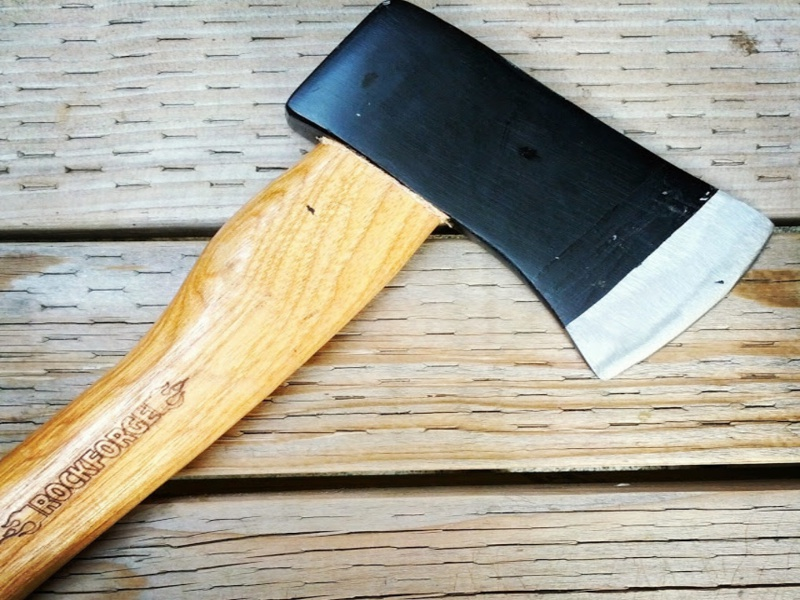axe: (3, 2, 799, 598)
